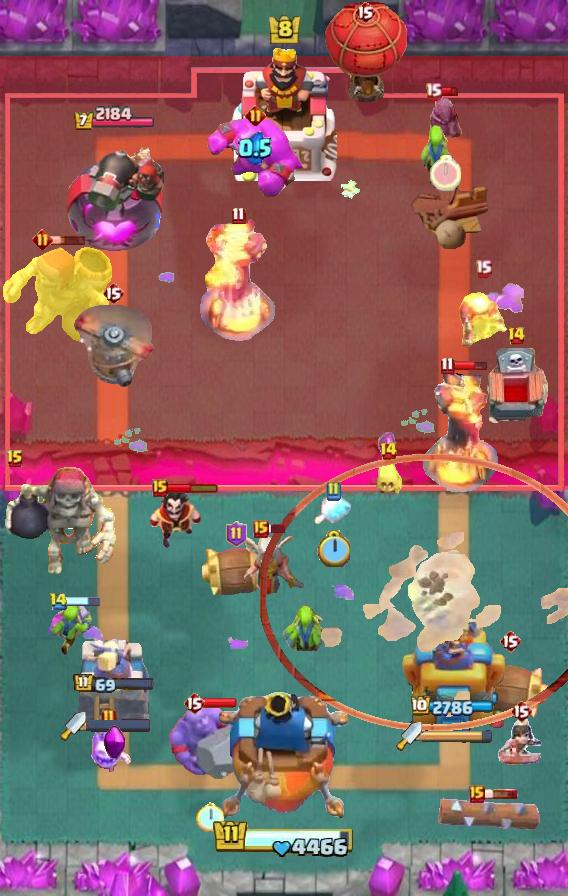archer-queen: (167, 702, 253, 782)
bar: (402, 615, 507, 731), (77, 637, 151, 731)
bat: (314, 494, 352, 526)
bat-evolution: (373, 456, 403, 502)
battle-ram: (419, 92, 471, 144)
bowler: (456, 281, 510, 351)
cannon-cart: (323, 0, 407, 102)
clock: (212, 818, 356, 860)
clone: (206, 114, 304, 200)
dark-prince: (66, 305, 160, 387)
electro-dragon: (199, 216, 277, 344), (421, 368, 499, 496)
electro-giant: (0, 466, 118, 578), (0, 244, 116, 354)
electro-spirit: (238, 131, 272, 165), (378, 432, 398, 457)
elixir: (317, 529, 351, 567), (430, 155, 461, 191), (196, 800, 224, 831)
elixir-golem-mid: (481, 346, 551, 432)
emote: (165, 482, 218, 494), (452, 359, 488, 372), (49, 234, 86, 246), (65, 596, 101, 608), (202, 697, 238, 709), (482, 788, 518, 800), (267, 523, 287, 534), (440, 87, 459, 98)
king-tower: (219, 692, 349, 826), (231, 45, 337, 181)
king-tower-bar: (422, 729, 494, 743), (86, 720, 150, 733)
lumberjack: (147, 491, 203, 551)
minion: (435, 798, 541, 834)
mirror: (85, 726, 133, 774)
poison: (228, 528, 316, 602)
royal-ghost: (260, 452, 568, 731)
selected: (72, 106, 155, 132), (412, 696, 497, 718), (73, 673, 155, 695)
skeleton-dragon: (495, 717, 547, 775)
skeleton-king-skill: (102, 725, 128, 759)
text: (225, 521, 247, 547), (354, 0, 376, 24), (102, 281, 124, 305), (499, 629, 521, 653), (183, 691, 205, 715), (510, 699, 532, 723), (32, 229, 53, 251), (245, 105, 266, 126), (507, 326, 526, 346), (379, 441, 398, 461), (6, 449, 24, 469), (49, 593, 68, 611), (426, 83, 443, 102), (325, 481, 341, 501), (101, 708, 117, 728), (476, 259, 493, 277), (152, 479, 168, 497), (253, 520, 269, 538), (469, 785, 485, 803), (440, 357, 455, 375), (231, 206, 245, 225)
the-log: (468, 658, 552, 720), (199, 544, 273, 596)
tower-bar: (63, 136, 165, 256)
zap: (48, 600, 94, 656), (281, 603, 331, 651), (416, 124, 456, 176)
